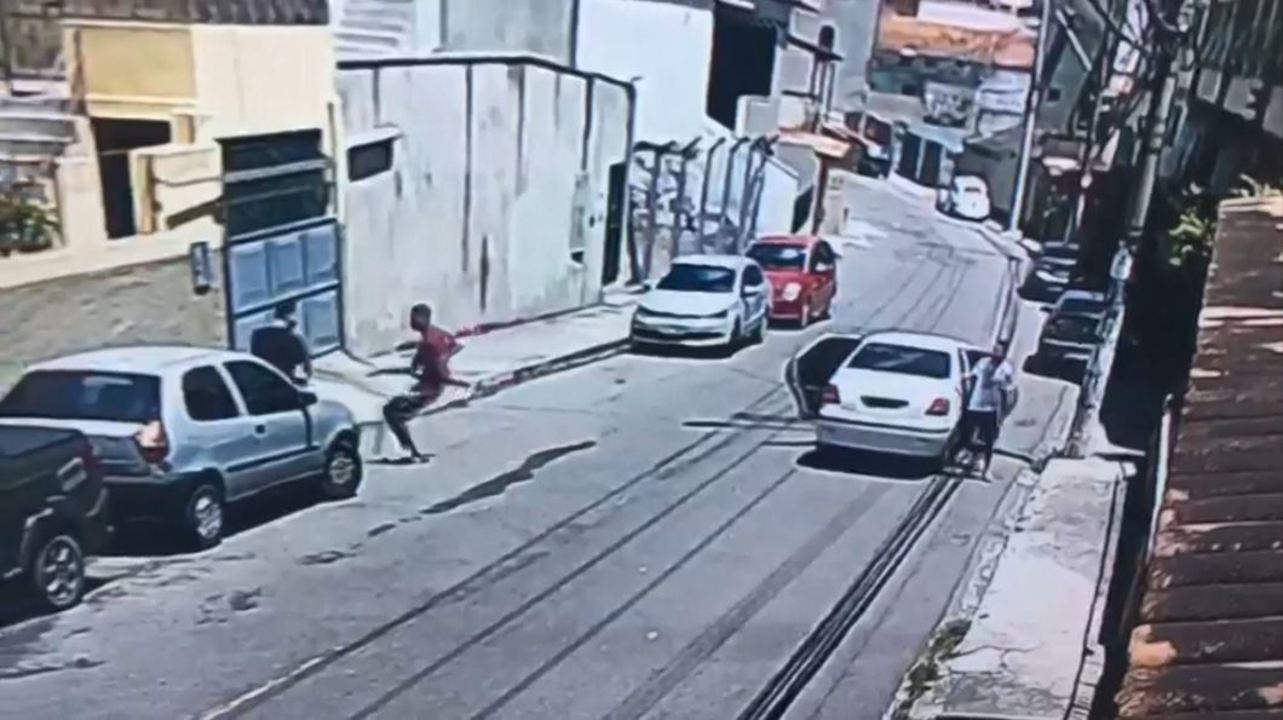Humano: (372, 298, 464, 470), (970, 329, 1023, 482)
